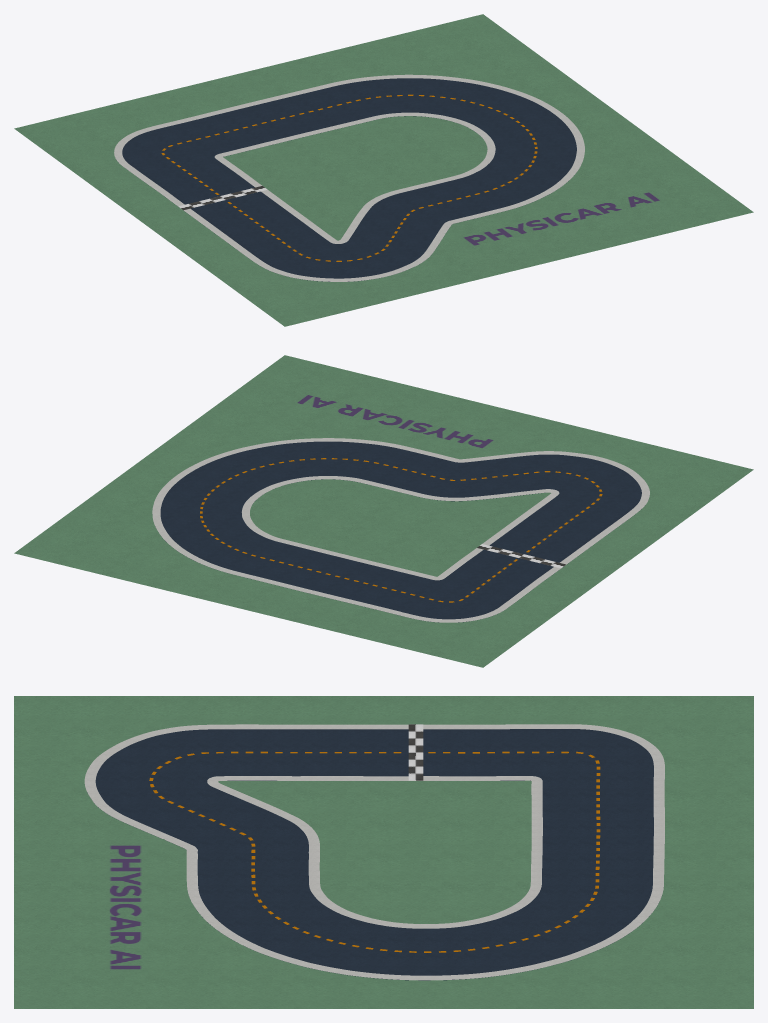
3 views of the same model, one above another, from view 1: azimuth 30°, elevation 25°; view 2: azimuth 150°, elevation 25°; view 3: azimuth 270°, elevation 25° (orthographic). The views are drawn at different scales.
Visible parts, largest first — view 1: field, road, userimg_0, outer_line, inner_line, center_line; view 2: field, road, userimg_0, outer_line, inner_line, center_line; view 3: field, road, userimg_0, outer_line, inner_line, center_line, start_line.
Boxes of the visible parts, left/top/right/bottom form: field: left=14, top=14, right=753, bottom=326; road: left=118, top=78, right=576, bottom=281; userimg_0: left=445, top=183, right=678, bottom=254; outer_line: left=114, top=74, right=584, bottom=281; inner_line: left=214, top=112, right=495, bottom=243; center_line: left=161, top=94, right=537, bottom=261; field: left=14, top=355, right=753, bottom=667; road: left=155, top=441, right=641, bottom=622; userimg_0: left=278, top=386, right=511, bottom=456; outer_line: left=152, top=438, right=649, bottom=622; inner_line: left=241, top=476, right=559, bottom=580; center_line: left=200, top=458, right=602, bottom=602; field: left=14, top=696, right=753, bottom=1008; road: left=87, top=729, right=659, bottom=980; userimg_0: left=87, top=839, right=164, bottom=976; outer_line: left=84, top=724, right=664, bottom=980; inner_line: left=207, top=776, right=542, bottom=928; center_line: left=149, top=751, right=600, bottom=952; start_line: left=408, top=724, right=423, bottom=780.
Bounding box in the file's own units: 5 × 5 × 0.0036.
Materials: 7 (7 with a texture image).
